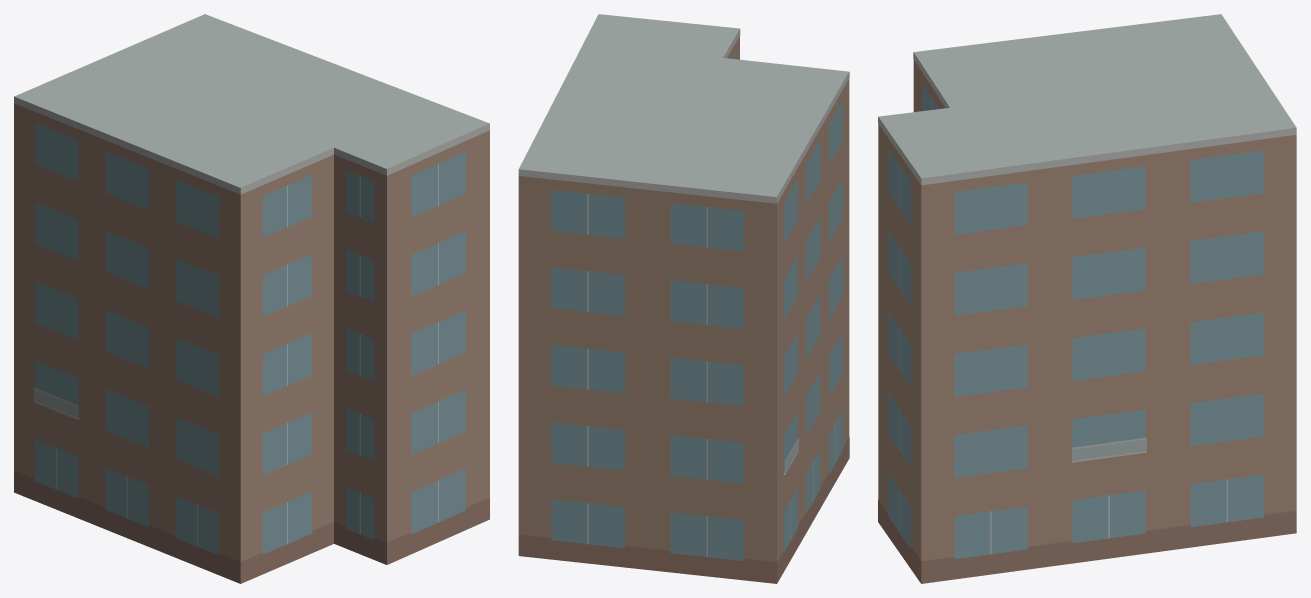
File: survey-upis-32773024.glb
3 renders of one model, left to right at view 1: azimuth 30°, elevation 25°; view 2: azimuth 150°, elevation 25°; view 3: azimuth 270°, elevation 25°, orthographic. The views are drawn at different scales.
Parts seen in each view (by area): view 1: survey-upis-32773024.tmp; view 2: survey-upis-32773024.tmp; view 3: survey-upis-32773024.tmp.
Boxes of the visible parts, x1,y1,x2,y2 form: survey-upis-32773024.tmp: (14, 14, 489, 583); survey-upis-32773024.tmp: (518, 14, 849, 583); survey-upis-32773024.tmp: (878, 14, 1296, 583).
Size of the model in its own units: 12.45 by 14.3 by 13.39.
